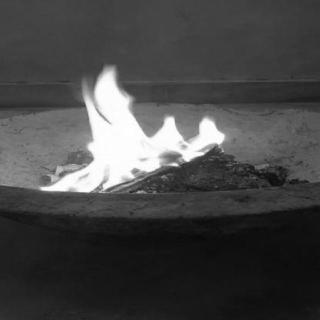Fire: (35, 61, 228, 191)
